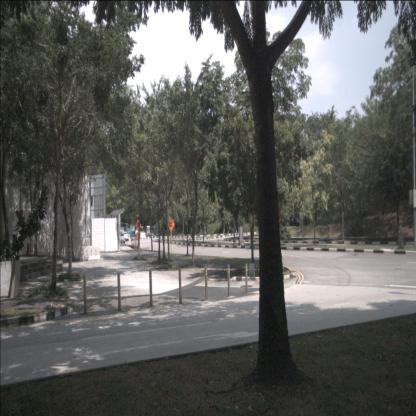movable_object-barrier: (86, 246, 100, 260), (81, 246, 87, 261), (140, 233, 146, 238), (136, 233, 140, 238)
vehicle-car: (119, 232, 125, 245), (123, 231, 129, 242)
